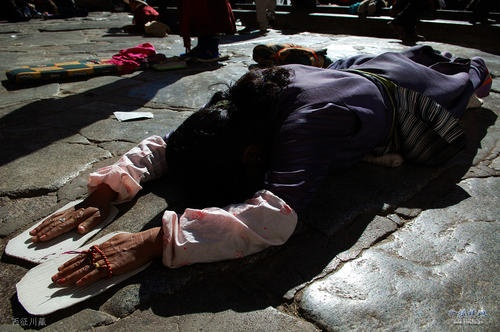falling: (38, 40, 500, 257)
